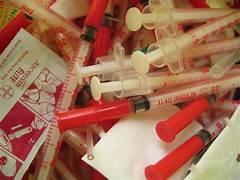Syringe: (56, 74, 239, 131), (131, 11, 239, 72), (55, 0, 107, 111), (145, 118, 225, 179), (90, 68, 211, 99), (156, 95, 216, 143), (125, 5, 235, 30), (7, 0, 80, 37), (78, 56, 132, 81), (210, 51, 239, 78), (55, 32, 73, 60), (212, 99, 239, 115), (206, 0, 228, 8)
